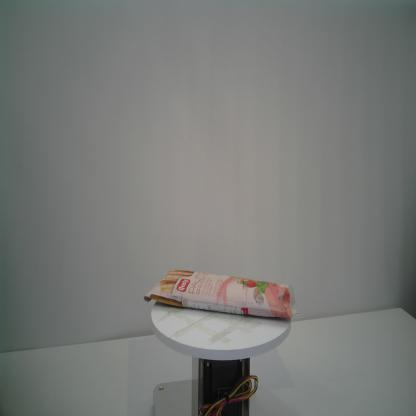Dessert: (144, 267, 300, 320)
